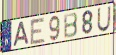8: (81, 9, 94, 36)
9: (48, 14, 61, 41)
A: (12, 21, 30, 48)
B: (63, 12, 79, 40)
E: (29, 17, 46, 46)
U: (96, 6, 111, 34)
